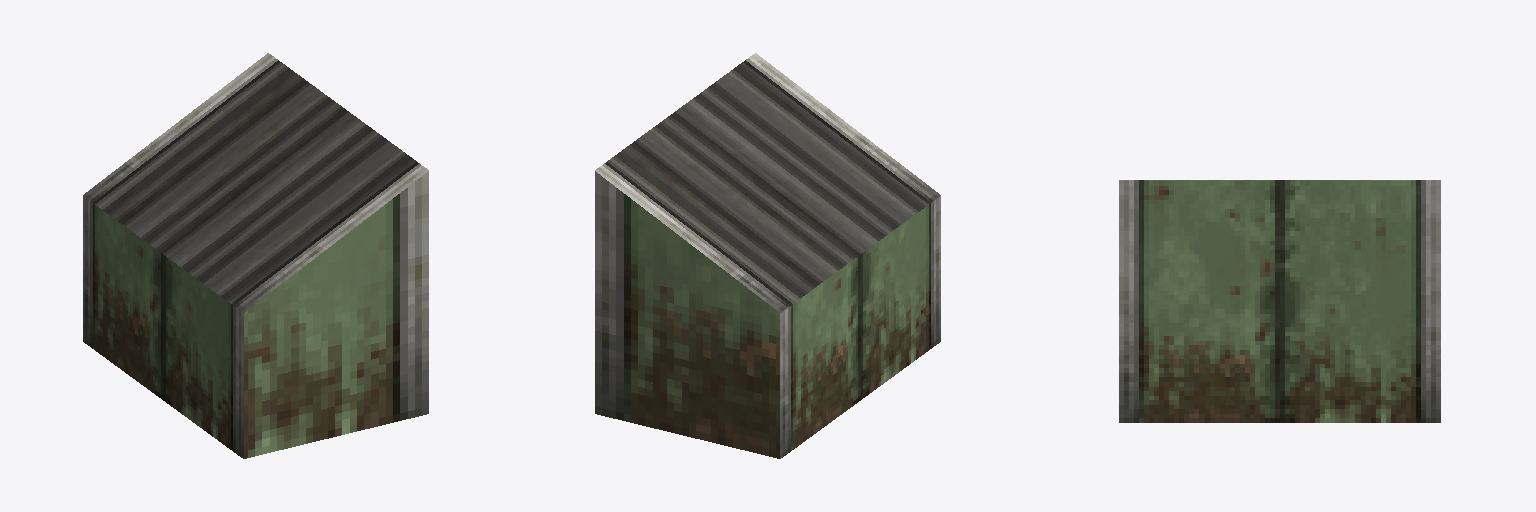
The picture shows the model from 3 angles: view 1: azimuth 30°, elevation 25°; view 2: azimuth 150°, elevation 25°; view 3: azimuth 270°, elevation 25°; orthographic projection.
Visible parts, largest first — view 1: detailDumpster_closed; view 2: detailDumpster_closed; view 3: detailDumpster_closed.
Part boxes in pixels (bbox=[...]): detailDumpster_closed: bbox=[83, 53, 428, 458]; detailDumpster_closed: bbox=[595, 53, 940, 458]; detailDumpster_closed: bbox=[1119, 180, 1440, 422].
Bounding box in the file's own units: 0.4 × 0.5 × 0.6.
Materials: 3 (3 with a texture image).